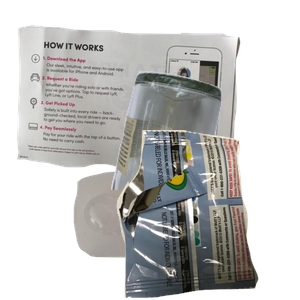glass: (109, 69, 300, 249)
paper: (14, 22, 247, 191)
plastic: (71, 169, 275, 300)
trash: (114, 130, 300, 300)
